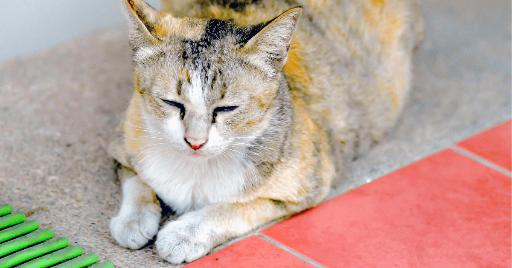cat_sleeping: (109, 0, 425, 265)
